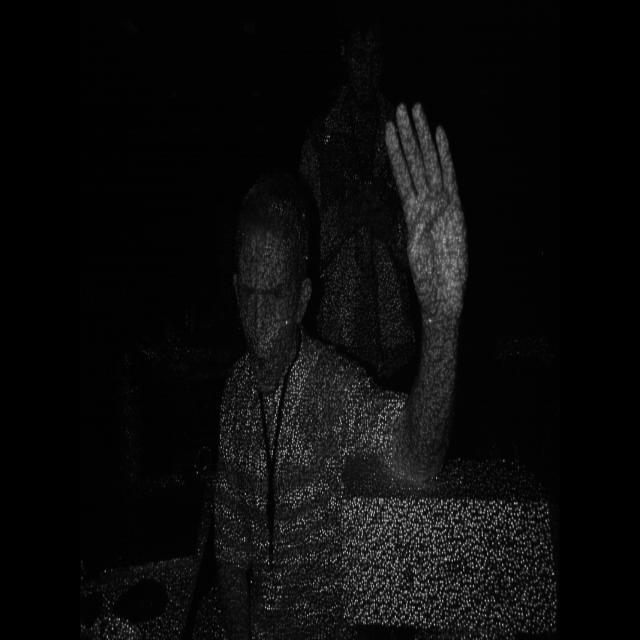B: (376, 91, 478, 326)
